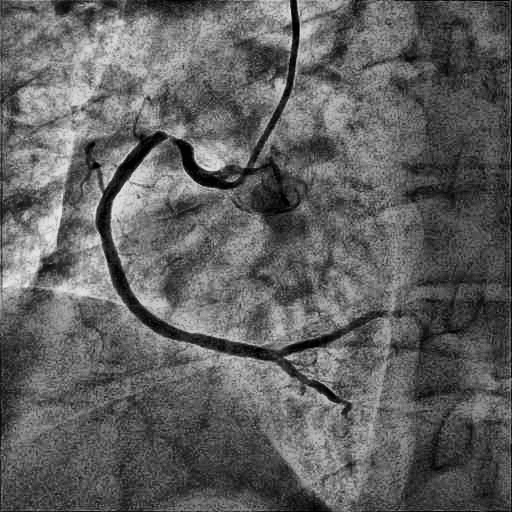pborca: (279, 309, 406, 356)
pda: (277, 358, 351, 423)
rca: (96, 132, 277, 361)
